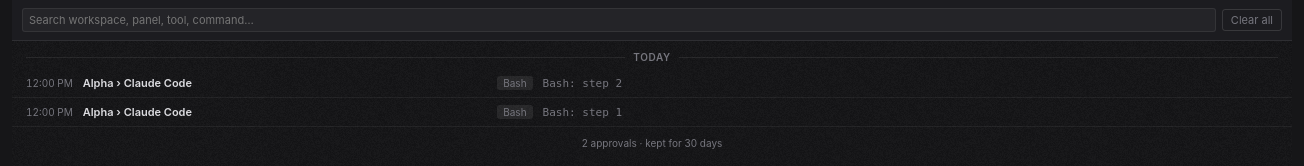
it: ApprovalsPanel › clears the whole trail for this profile and reports the new count
Step 1. Click the button with class "approvals__clear" → (1252, 20), box [1222,9,1282,31]
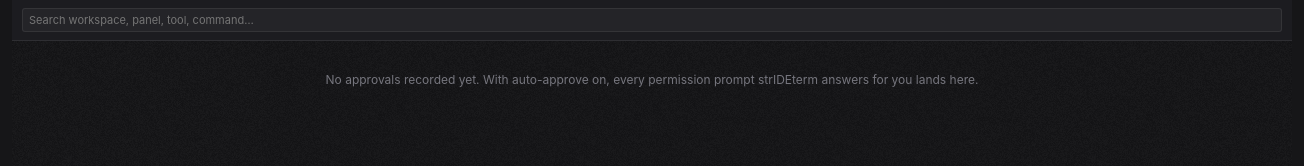
Now no elements with class "approval-row" are shown
